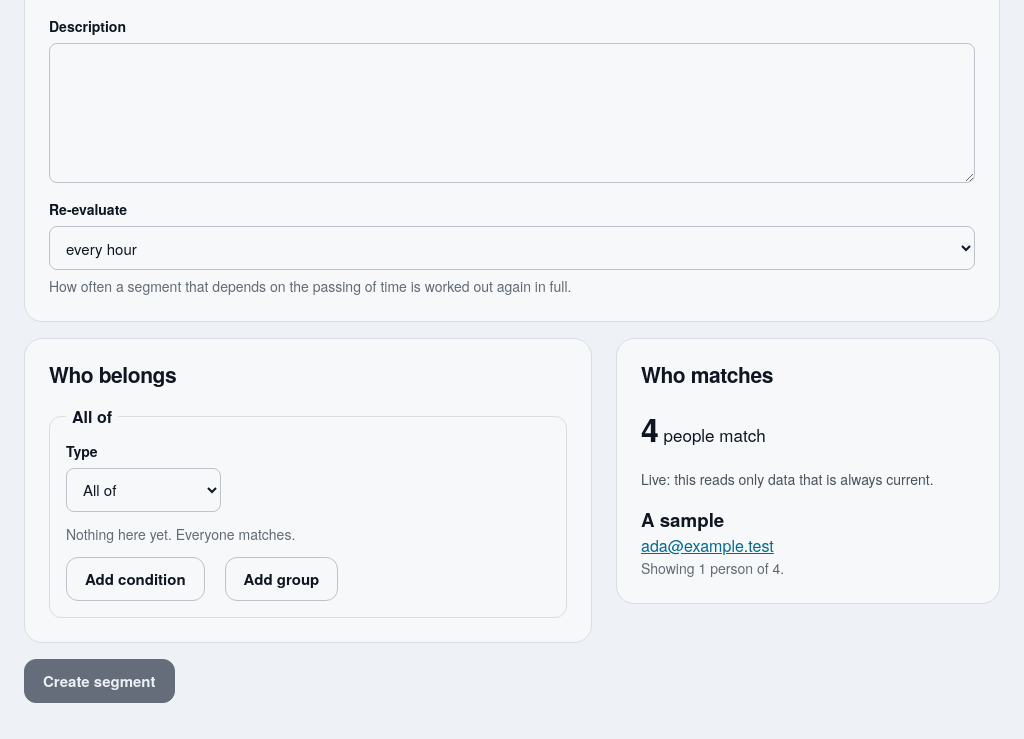
it: live count › asks for nothing and says so while a condition is unfinished
The width and height of the screenshot is (1024, 739).
(page scrolled)
Expected: the element showing "4 people match" is shown, top-left (641, 406), bottom-right (766, 452)
Click the button named "Add condition to All of".
click(135, 579)  # box top-left (66, 557), bottom-right (205, 601)
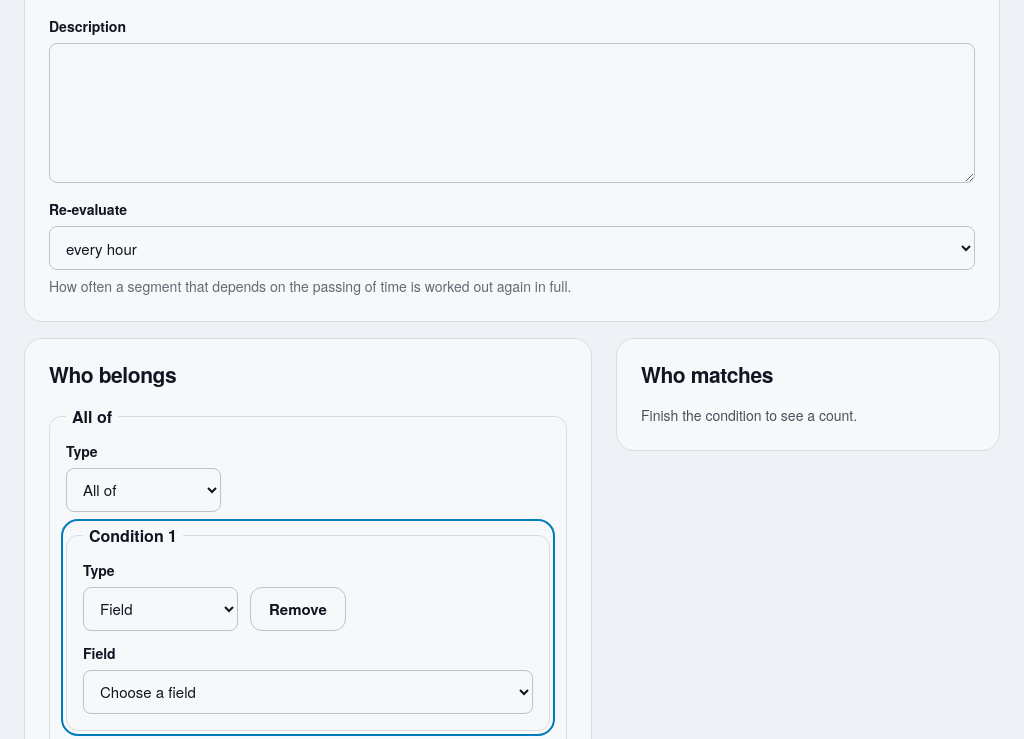
Expected: the text "Finish the condition to see a count." is shown, top-left (641, 405), bottom-right (857, 425)
